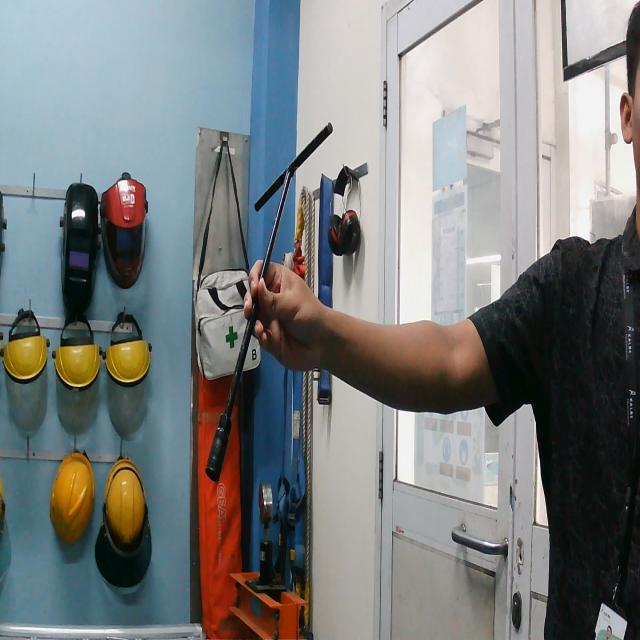kunci_t: (198, 106, 342, 489)
